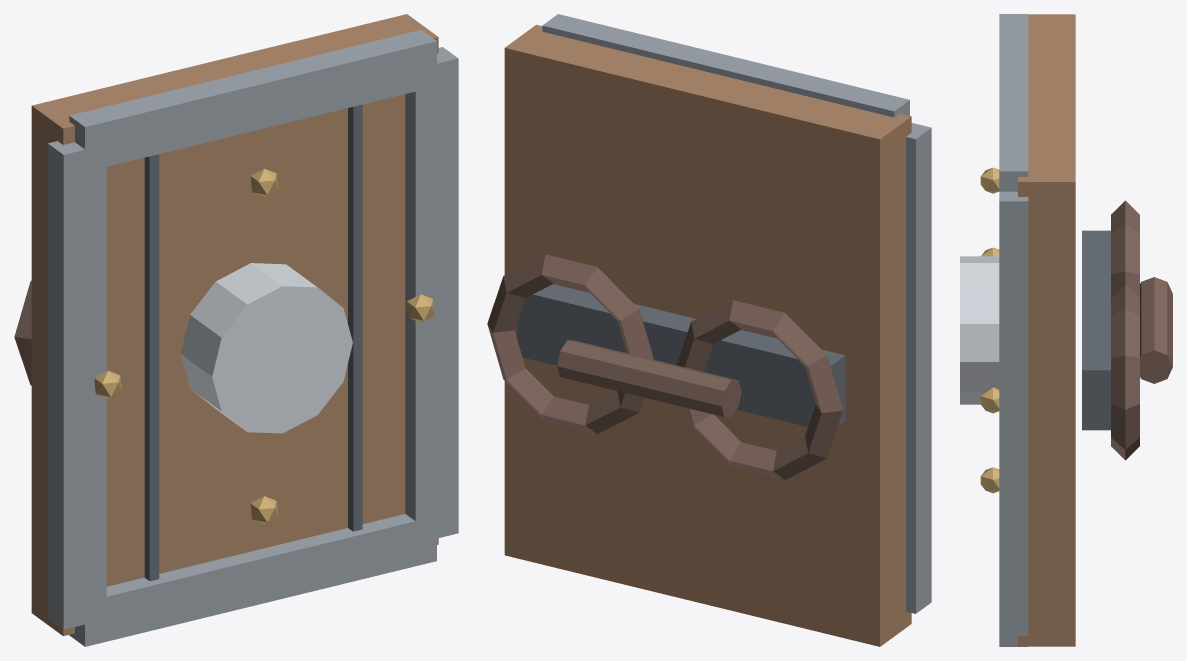
The model's file is square_shield.glb.
The picture shows the model from 3 angles, left to right: view 1: azimuth 30°, elevation 25°; view 2: azimuth 150°, elevation 25°; view 3: azimuth 270°, elevation 25°; orthographic projection. The views are drawn at different scales.
Visible parts, largest first — view 1: ShieldBody.003, EdgeBandX_-0.45, EdgeBandX_0.45, CentralBoss.003, EdgeBandZ_0.58, EdgeBandZ_-0.58, BoardSeam_-0.26, BoardSeam_0.26, BackStrap_-0.003, Rivet_2.006; view 2: ShieldBody.003, BackReinforcement.003, EdgeBandX_-0.45, BackStrap_0.003, BackStrap_-0.003, EdgeBandZ_0.58, HandGrip.003; view 3: ShieldBody.003, EdgeBandX_0.45, BackReinforcement.003, CentralBoss.003, EdgeBandZ_0.58, BackStrap_0.003, HandGrip.003, BackStrap_-0.003, Rivet_2.006, Rivet_3.006, Rivet_1.028.
Part boxes in pixels (x1,y1,x2,y2): ShieldBody.003: [31, 14, 438, 636]; EdgeBandX_-0.45: [48, 141, 106, 629]; EdgeBandX_0.45: [405, 47, 458, 543]; CentralBoss.003: [180, 263, 352, 433]; EdgeBandZ_0.58: [69, 30, 436, 171]; EdgeBandZ_-0.58: [69, 514, 436, 646]; BoardSeam_-0.26: [144, 154, 159, 581]; BoardSeam_0.26: [348, 104, 362, 531]; BackStrap_-0.003: [14, 280, 31, 385]; Rivet_2.006: [250, 496, 278, 524]; ShieldBody.003: [504, 24, 911, 646]; BackReinforcement.003: [516, 284, 845, 426]; EdgeBandX_-0.45: [906, 123, 931, 613]; BackStrap_0.003: [487, 254, 653, 434]; BackStrap_-0.003: [676, 300, 843, 479]; EdgeBandZ_0.58: [542, 14, 909, 117]; HandGrip.003: [557, 340, 741, 417]; ShieldBody.003: [1018, 14, 1075, 646]; EdgeBandX_0.45: [999, 191, 1028, 635]; BackReinforcement.003: [1082, 230, 1110, 430]; CentralBoss.003: [960, 256, 999, 404]; EdgeBandZ_0.58: [999, 14, 1028, 191]; BackStrap_0.003: [1111, 284, 1139, 460]; HandGrip.003: [1140, 277, 1172, 383]; BackStrap_-0.003: [1111, 200, 1139, 298]; Rivet_2.006: [980, 467, 999, 493]; Rivet_3.006: [980, 167, 999, 193]; Rivet_1.028: [980, 387, 999, 413].
Bounding box in the file's own units: 1.01 × 1.27 × 0.515.
